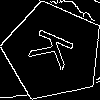K: (28, 26, 84, 76)
